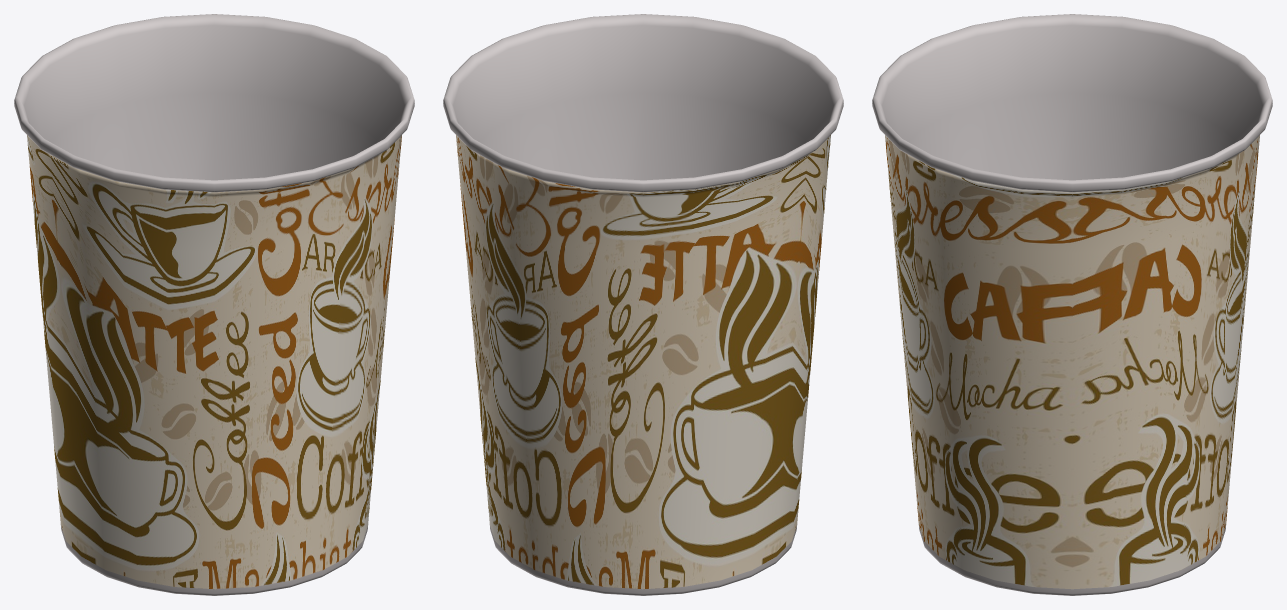
File: paper cup.glb
3 renders of one model, left to right at view 1: azimuth 30°, elevation 25°; view 2: azimuth 150°, elevation 25°; view 3: azimuth 270°, elevation 25°, orthographic.
Visible parts, largest first — view 1: Cylinder; view 2: Cylinder; view 3: Cylinder.
Boxes of the visible parts, box(x1,y1,x2,y2) form: Cylinder: box(14, 14, 414, 595); Cylinder: box(443, 14, 843, 595); Cylinder: box(872, 14, 1272, 595).
Bounding box in the file's own units: 447 × 535 × 447.
2 materials, 1 textured.
